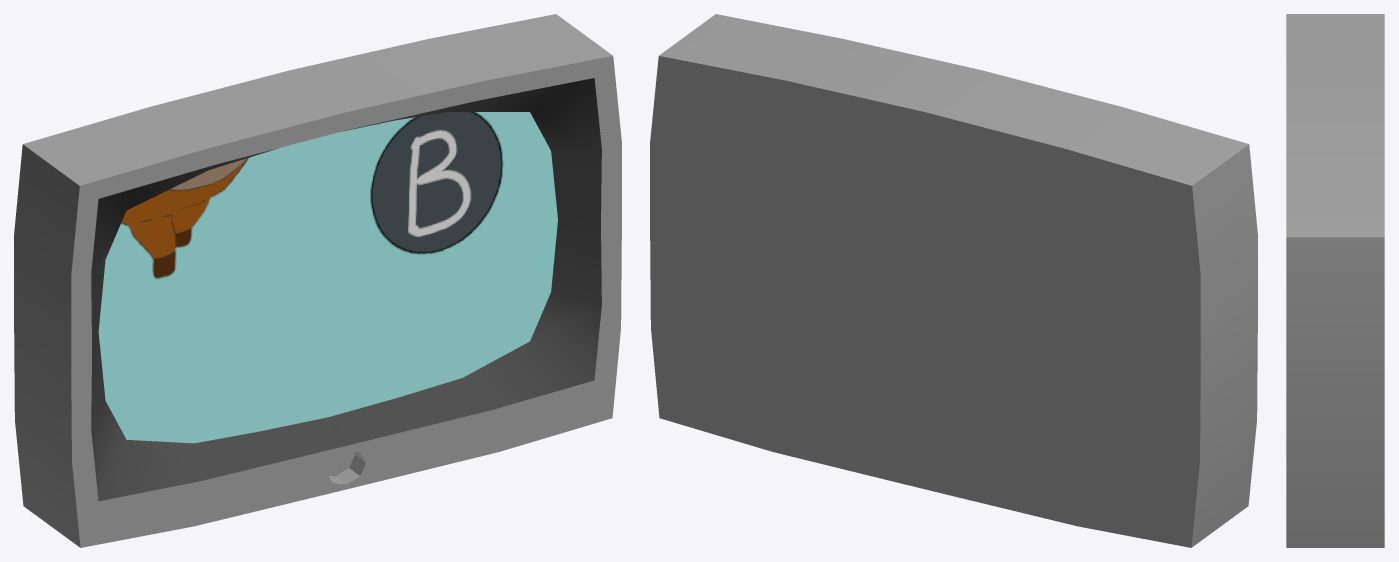
The model's file is Monitor.fbx.
3 renders of one model, left to right at view 1: azimuth 30°, elevation 25°; view 2: azimuth 150°, elevation 25°; view 3: azimuth 270°, elevation 25°, orthographic. The views are drawn at different scales.
Parts seen in each view (by area): view 1: Screen_Edge, Screen; view 2: Screen_Edge; view 3: Screen_Edge.
Part boxes in pixels (box(x1,y1,x2,y2)): Screen_Edge: box(14, 14, 621, 547); Screen: box(98, 112, 557, 443); Screen_Edge: box(650, 14, 1257, 547); Screen_Edge: box(1286, 14, 1384, 547).
Size of the model in its own units: 36.13 by 23.65 by 6.49.
4 materials, 1 textured.
